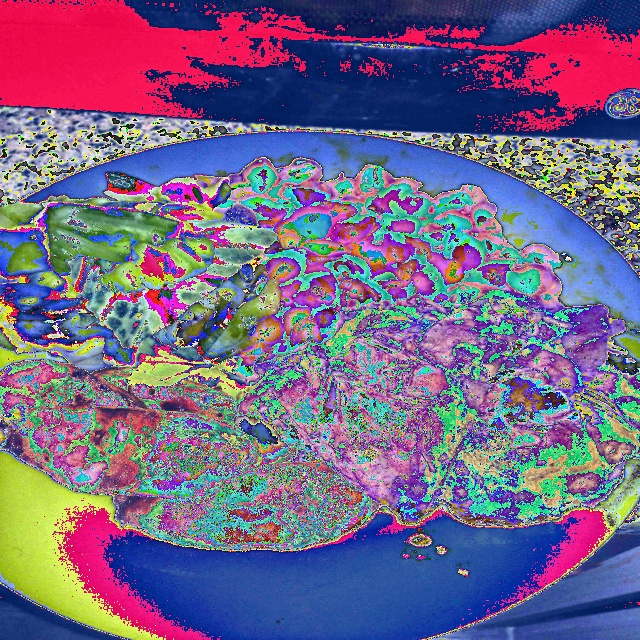background: (0, 158, 640, 550)
